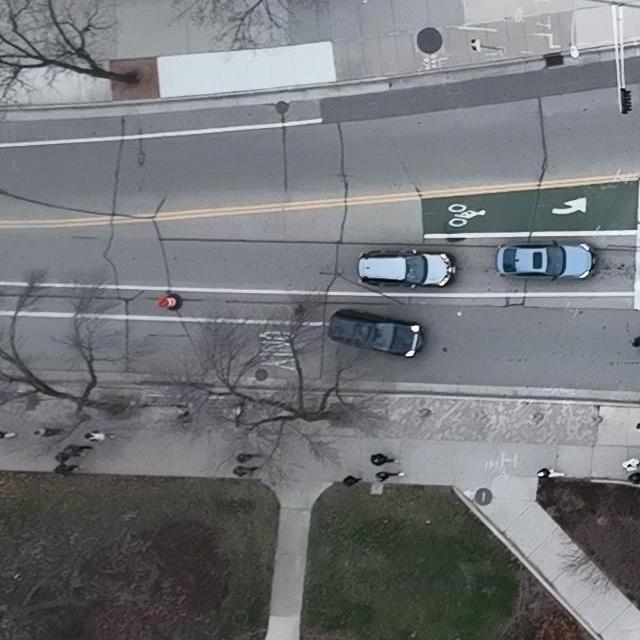car: (327, 307, 425, 358), (495, 240, 597, 281), (356, 248, 457, 289)
